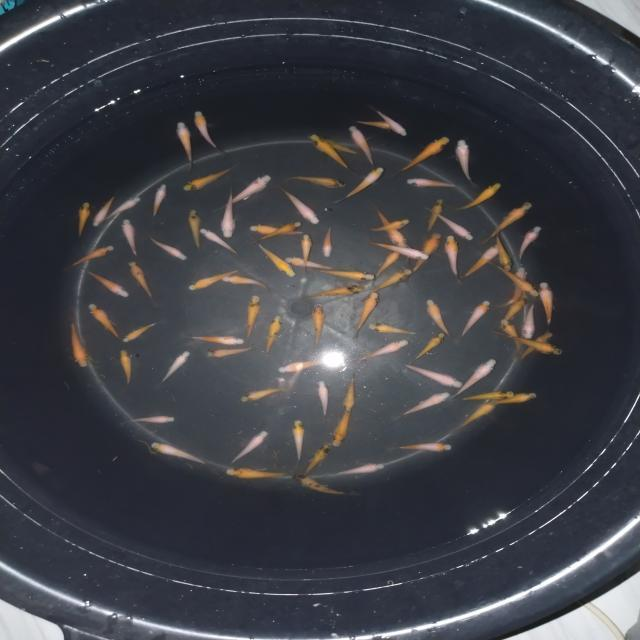nila: (212, 173, 273, 214), (392, 135, 450, 178), (149, 439, 217, 472), (446, 358, 499, 400), (486, 260, 544, 298), (328, 167, 386, 205), (275, 182, 323, 226), (307, 132, 356, 174), (486, 198, 532, 242), (291, 472, 365, 499), (360, 266, 415, 302), (398, 360, 461, 390), (227, 430, 276, 468), (57, 244, 119, 274), (181, 162, 239, 194), (193, 108, 230, 158), (458, 242, 504, 282), (428, 206, 478, 242), (62, 313, 92, 372), (456, 298, 496, 342), (254, 240, 298, 280), (374, 205, 413, 250), (498, 332, 568, 357), (198, 226, 249, 260), (391, 391, 452, 419), (450, 398, 500, 432), (85, 299, 124, 342), (126, 255, 160, 304), (403, 331, 448, 368), (109, 316, 161, 348), (422, 298, 458, 343), (455, 180, 504, 213), (352, 336, 409, 364), (366, 238, 432, 262), (350, 291, 384, 337), (153, 349, 194, 386), (82, 268, 130, 299), (453, 136, 481, 188), (514, 330, 554, 366), (351, 122, 380, 171), (184, 268, 240, 293), (411, 232, 444, 274), (368, 246, 406, 282), (217, 271, 274, 295), (371, 104, 410, 139), (300, 440, 333, 481), (118, 215, 146, 263), (298, 283, 368, 302), (443, 233, 468, 286), (172, 118, 195, 174), (330, 406, 360, 448), (92, 187, 120, 232), (252, 220, 304, 244), (306, 303, 332, 350), (502, 264, 530, 307), (220, 466, 290, 483), (496, 293, 530, 328), (330, 460, 389, 480), (474, 389, 538, 407), (518, 222, 544, 266), (237, 385, 294, 405), (107, 190, 145, 220), (241, 292, 262, 346), (147, 233, 186, 262), (495, 320, 523, 360), (537, 279, 557, 334), (283, 174, 349, 190), (283, 253, 338, 272), (363, 321, 424, 338), (321, 134, 368, 156), (200, 344, 260, 361), (261, 314, 284, 358), (314, 268, 376, 284), (422, 196, 448, 234), (176, 331, 246, 345), (387, 440, 456, 454), (72, 197, 92, 245), (404, 175, 460, 192), (219, 188, 237, 240), (289, 416, 306, 471), (340, 368, 360, 414), (366, 216, 412, 236), (454, 388, 518, 402), (492, 232, 512, 276), (148, 180, 168, 224), (248, 224, 308, 238), (119, 414, 178, 428), (522, 299, 540, 343), (116, 346, 134, 390), (187, 208, 204, 254), (314, 379, 332, 421), (319, 222, 338, 260), (272, 361, 326, 374), (297, 233, 314, 274), (349, 116, 395, 129)
